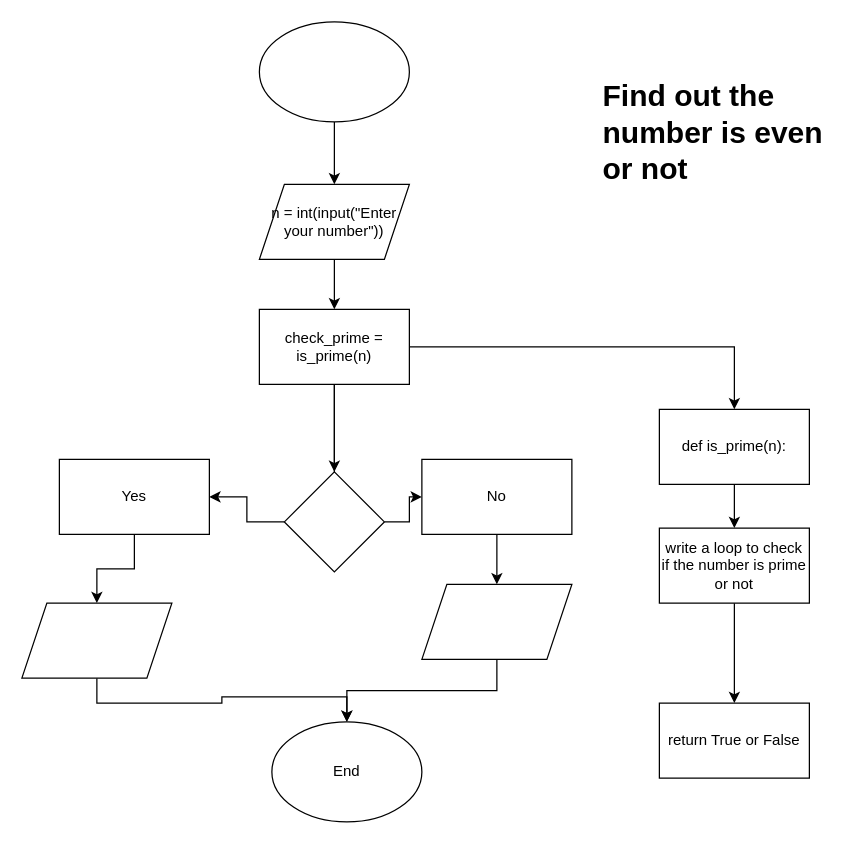
This 856x844 diagram has some shape labels left out. Each missing label, with the box of its shape:
Is prime or not: (283, 471, 384, 572)
print(f"This number is not a prime"): (421, 583, 572, 659)
print(f"This number is prime"): (21, 602, 172, 678)
Start: (258, 21, 409, 122)
